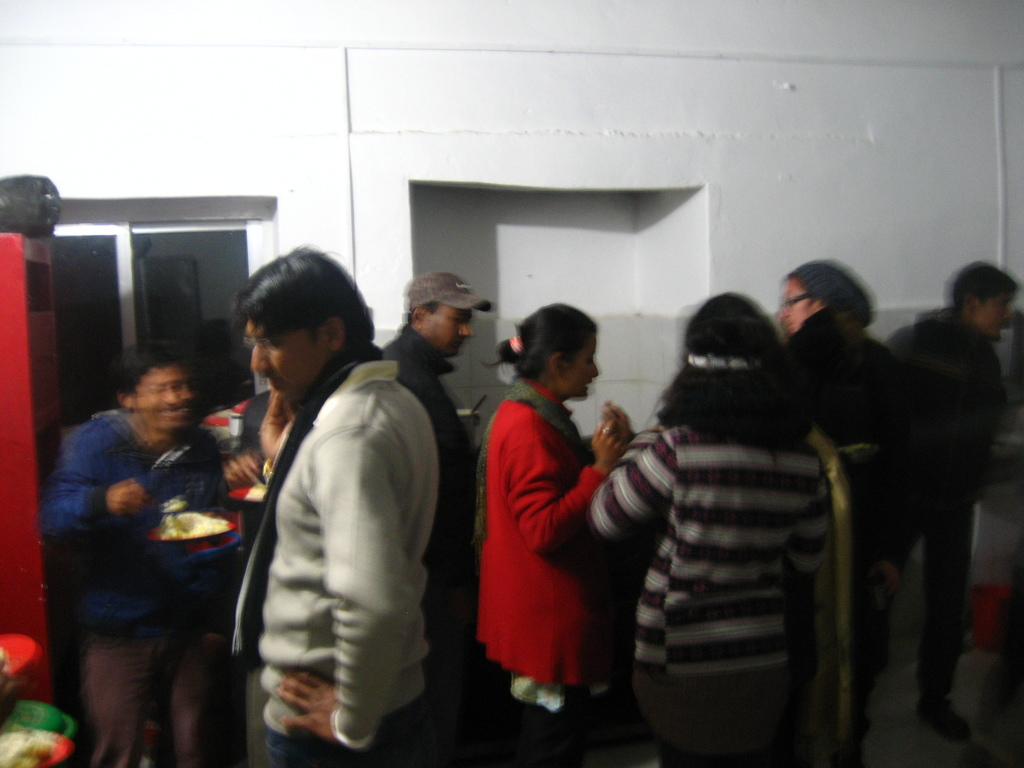Human-face: (245, 315, 326, 401), (134, 368, 191, 433), (420, 307, 473, 362), (773, 281, 812, 335), (576, 331, 601, 404), (978, 296, 1011, 342)
